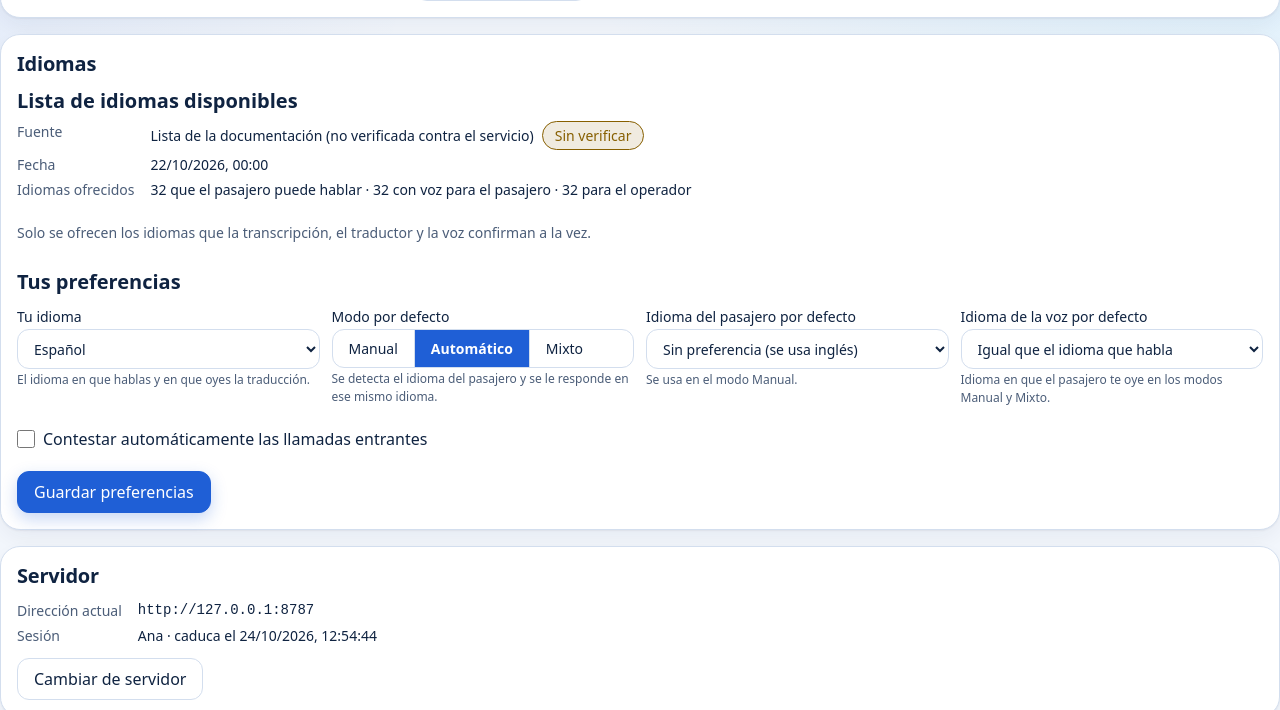
Test: languages and preferences › shows the server message when a language is not supported
(page scrolled)
What coordinates should you click on to do the following:
click the button "Guardar preferencias"
I would click on:
 (114, 492)
Its box is [17, 471, 211, 513].
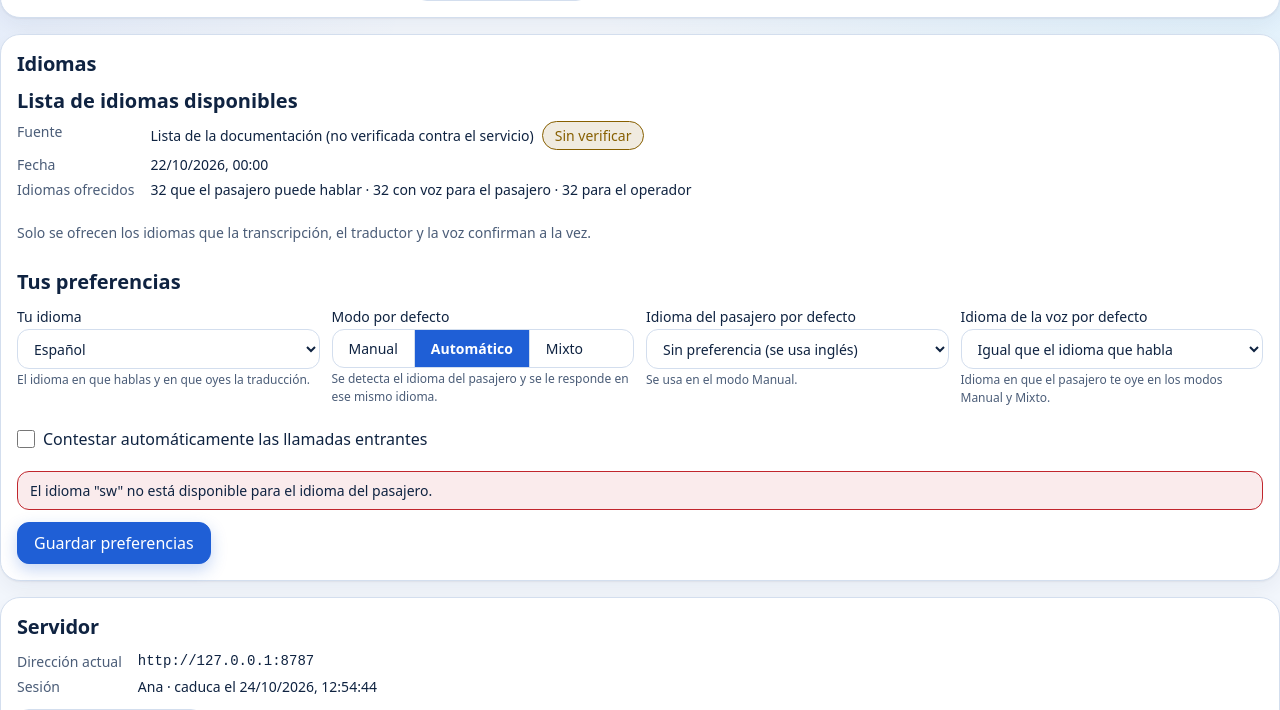
Expected: the message with test id "preferences-message" reads "El idioma \"sw\" no está disponible para el idioma del pasajero.", [30, 481, 432, 500]
